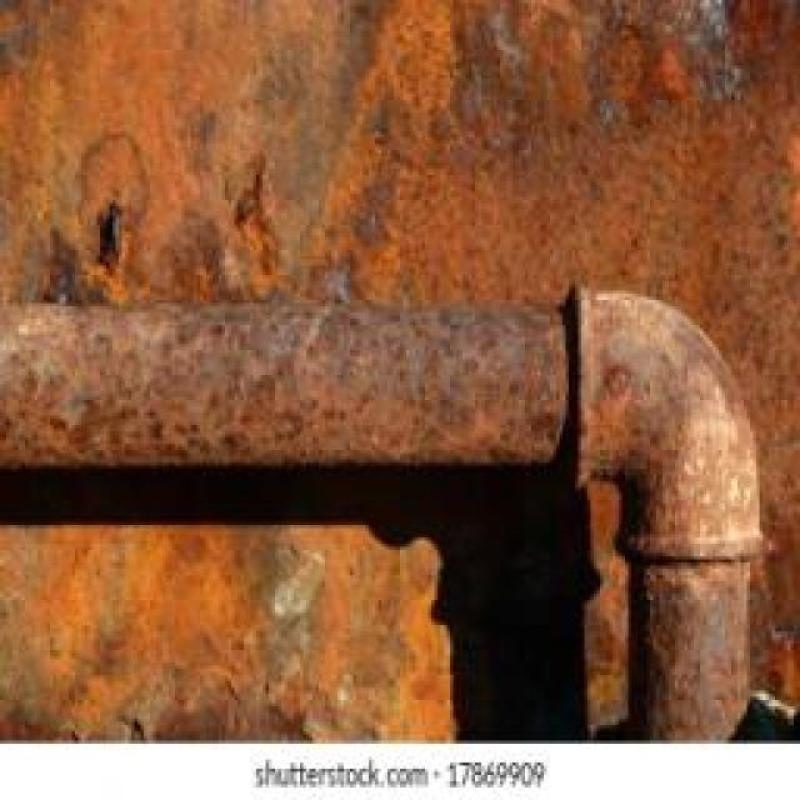corrosion: (6, 11, 791, 286), (9, 290, 800, 501), (10, 542, 552, 720), (620, 522, 766, 736)
